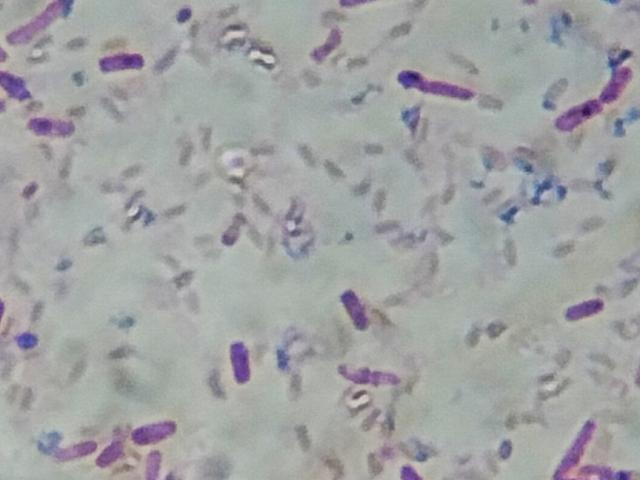E. coli: (556, 415, 607, 477), (406, 67, 484, 107), (9, 0, 70, 46), (222, 332, 264, 385), (333, 282, 374, 336), (98, 43, 155, 78), (549, 100, 600, 133), (342, 359, 397, 389), (129, 413, 185, 441), (569, 290, 612, 326), (603, 65, 637, 110), (23, 117, 80, 143), (52, 430, 98, 461), (1, 69, 34, 97), (143, 446, 167, 480), (99, 439, 127, 467), (396, 454, 422, 480)
